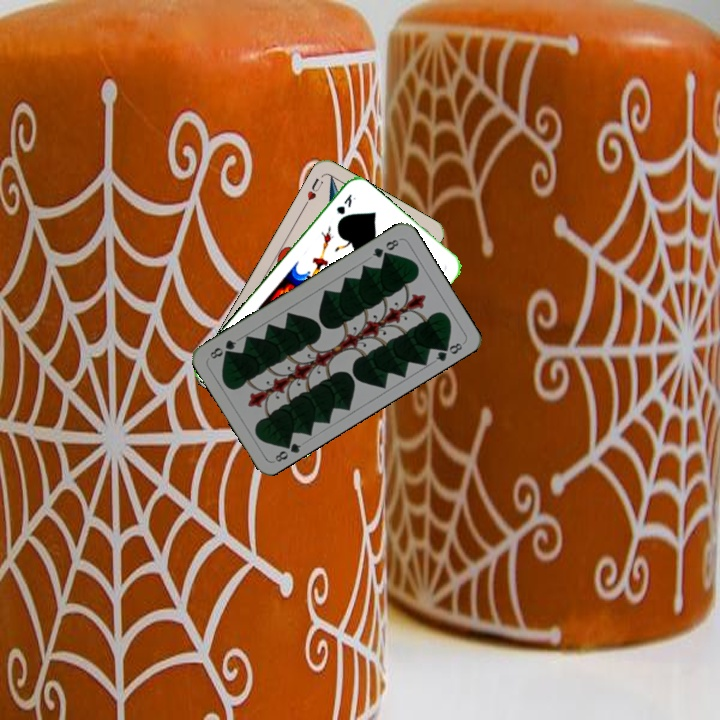G8: (271, 436, 304, 465), (368, 235, 401, 261)
GK: (332, 190, 359, 217)
HU: (300, 174, 326, 209)
